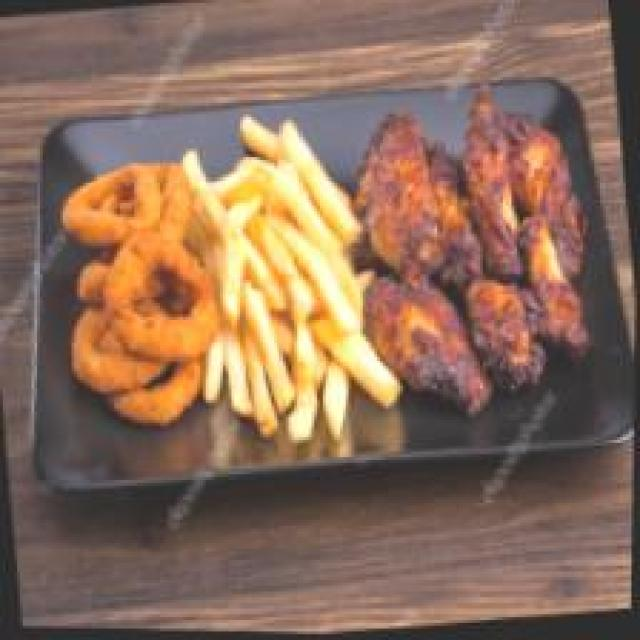Chicken Wings: (337, 70, 632, 433)
French Fries: (168, 90, 412, 459)
Onion Rings: (48, 144, 228, 450)
